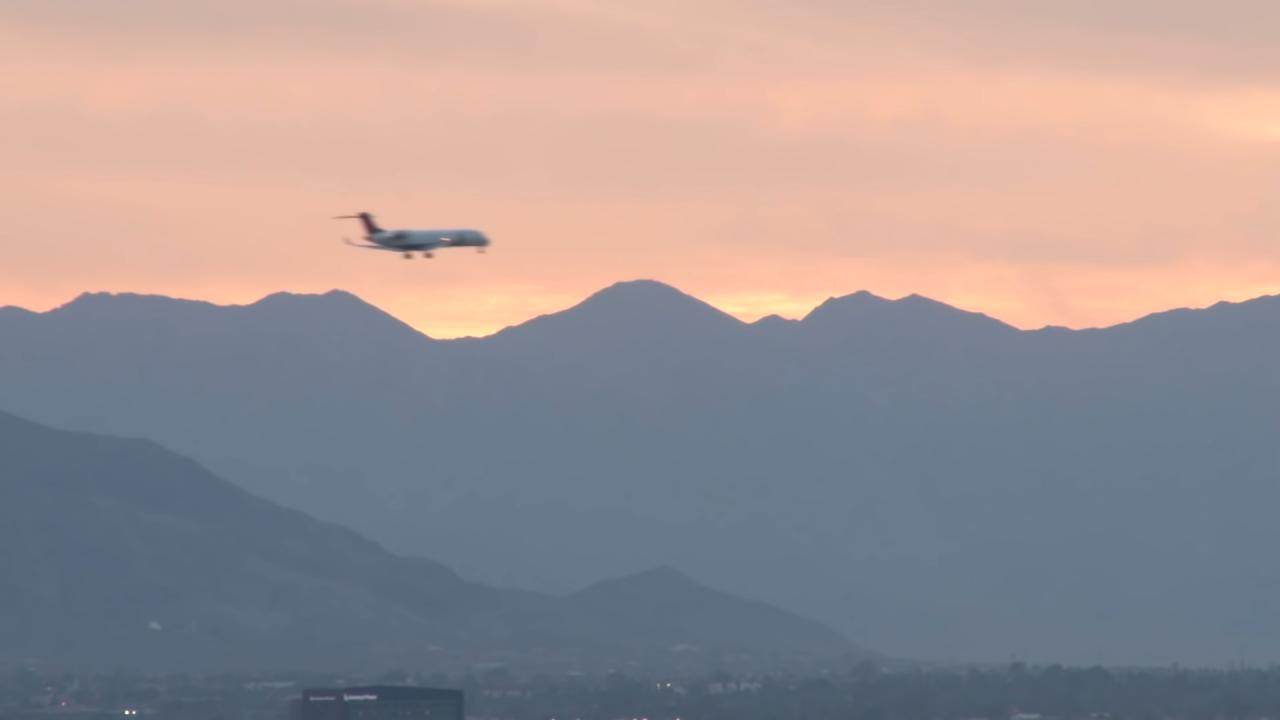Airplane: (324, 191, 502, 277)
